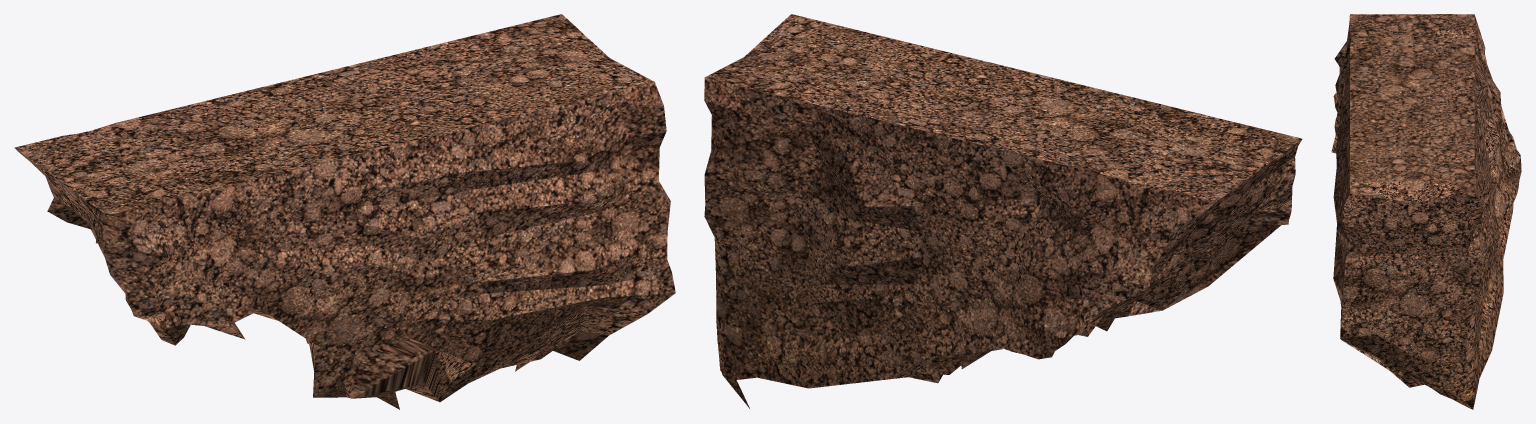
File: LUPA.glb
The picture shows the model from 3 angles, left to right: view 1: azimuth 30°, elevation 25°; view 2: azimuth 150°, elevation 25°; view 3: azimuth 270°, elevation 25°; orthographic projection. The views are drawn at different scales.
Parts seen in each view (by area): view 1: Cube; view 2: Cube; view 3: Cube.
Part boxes in pixels (box(x1,y1,x2,y2)): Cube: box(14, 14, 675, 409); Cube: box(704, 14, 1302, 408); Cube: box(1331, 14, 1521, 409).
Size of the model in its own units: 9.39 by 5.52 by 4.09.
1 material, 1 textured.
